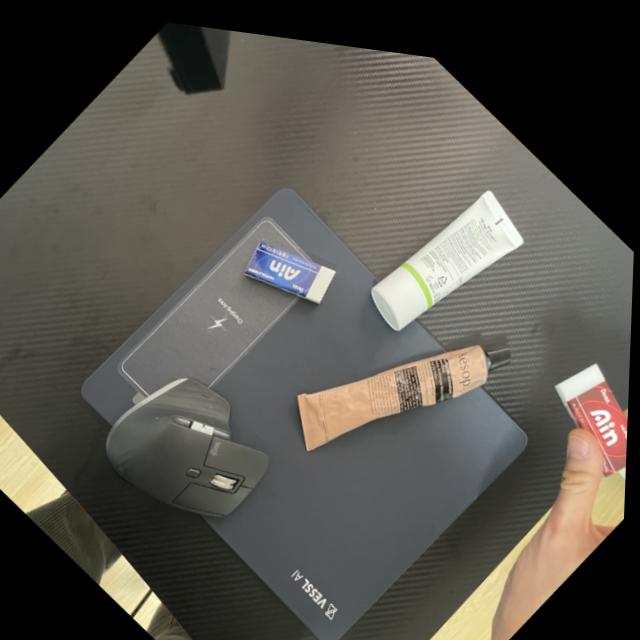blue: (229, 198, 353, 332)
red: (527, 322, 632, 477)
